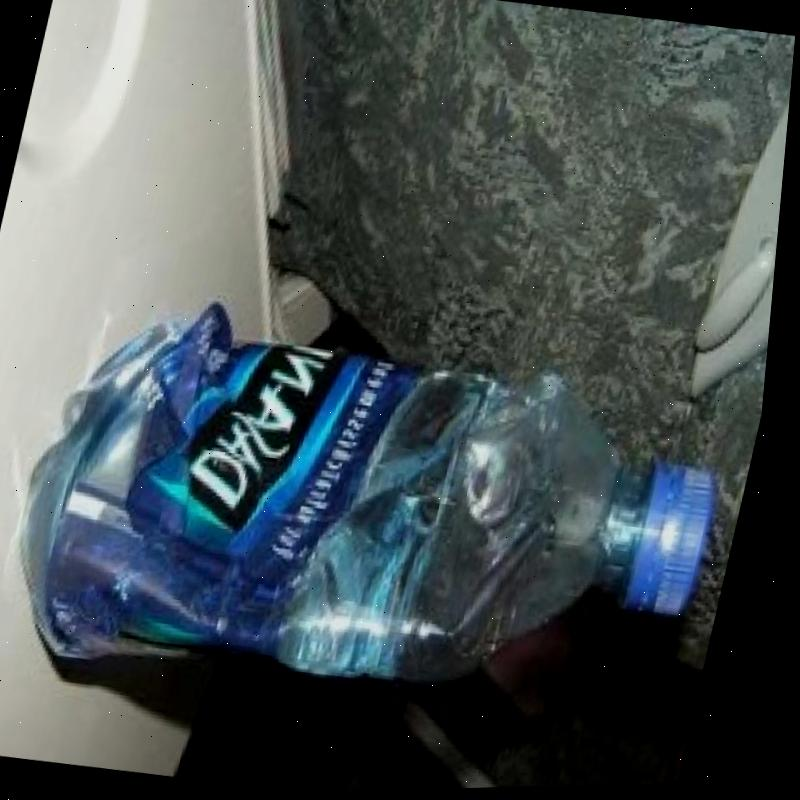botella: (0, 269, 759, 750)
